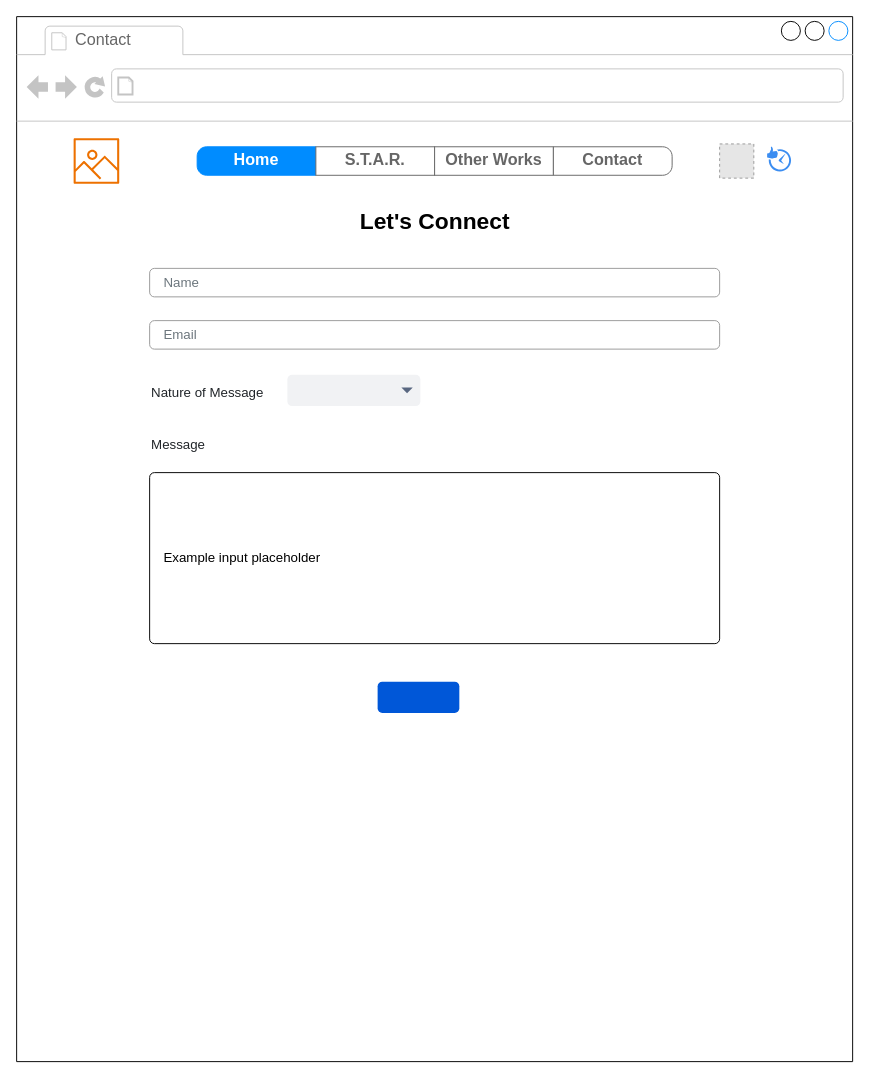
This 869x1078 diagram has some shape labels left out. Grey dashed boxes stand in for pictures. Each missing label, with the box of its shape:
Dropdown button: (287, 374, 420, 406)
https://antarias92.github.io/Contact: (139, 73, 378, 98)
Send: (377, 681, 459, 712)
